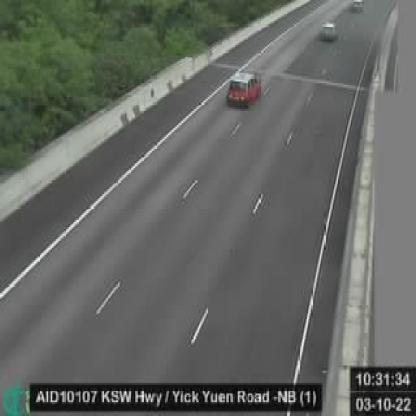Car: (226, 70, 262, 107), (321, 22, 335, 40)
